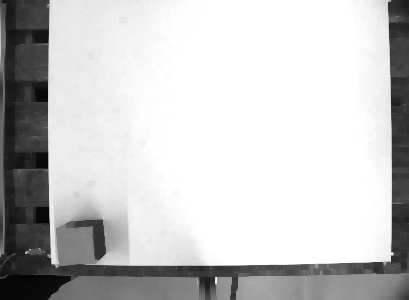b7: (53, 217, 107, 268)
